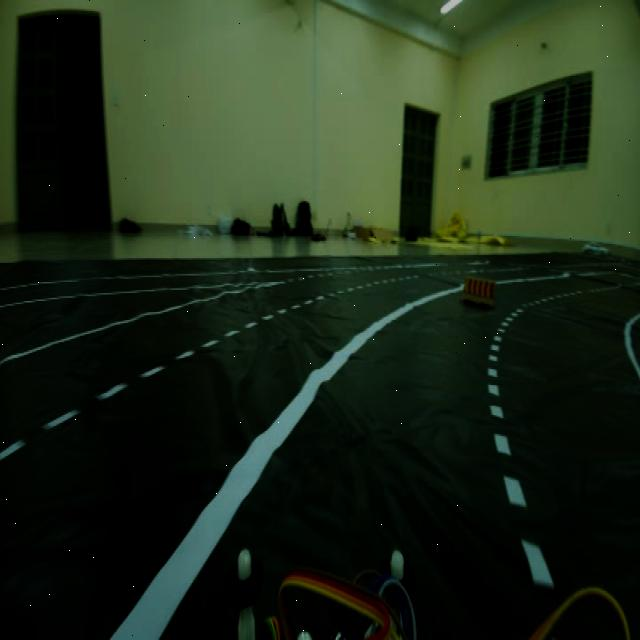roadblock: (458, 266, 503, 315)
